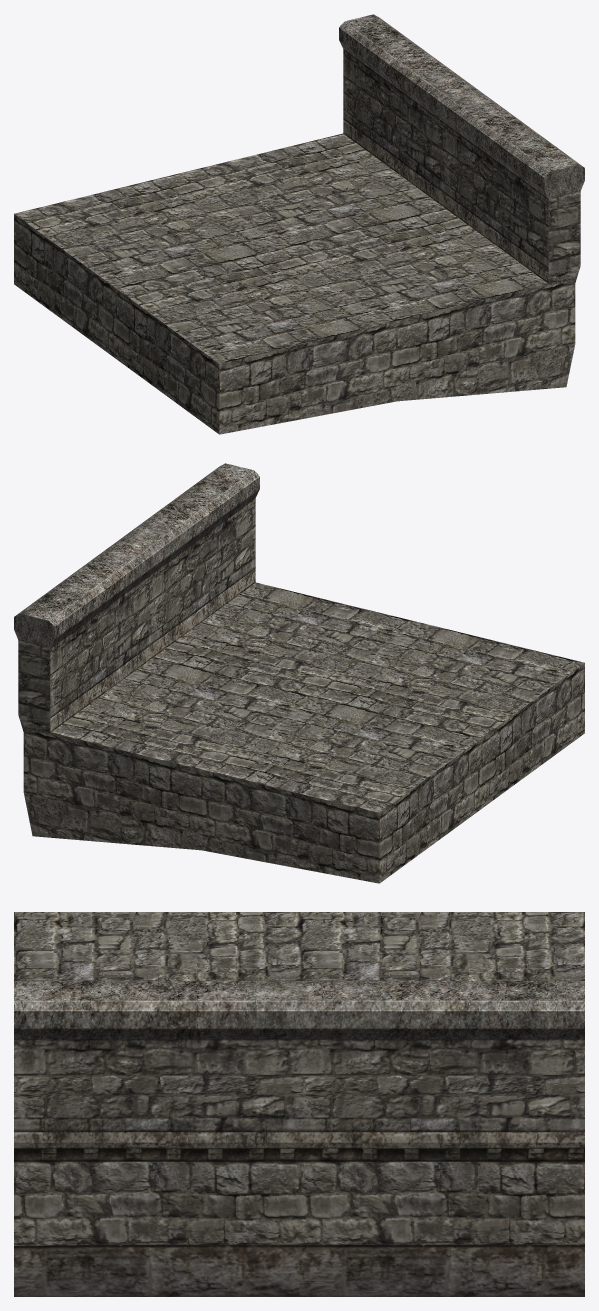
File: StoneBridge_FloatingSide.dae
3 renders of one model, top to bottom at view 1: azimuth 30°, elevation 25°; view 2: azimuth 150°, elevation 25°; view 3: azimuth 270°, elevation 25°, orthographic. The views are drawn at different scales.
Parts seen in each view (by area): view 1: BridgeFloatingSide, FloatingSideW; view 2: BridgeFloatingSide, FloatingSideW; view 3: FloatingSideW, BridgeFloatingSide.
Boxes of the visible parts, bbox=[...] form: BridgeFloatingSide: bbox=[14, 133, 575, 434]; FloatingSideW: bbox=[339, 14, 584, 283]; BridgeFloatingSide: bbox=[23, 582, 584, 883]; FloatingSideW: bbox=[14, 463, 259, 732]; FloatingSideW: bbox=[14, 981, 584, 1296]; BridgeFloatingSide: bbox=[14, 912, 584, 1245].
Bounding box in the file's own units: 4.11 × 2.36 × 4.
Materials: 2 (2 with a texture image).
